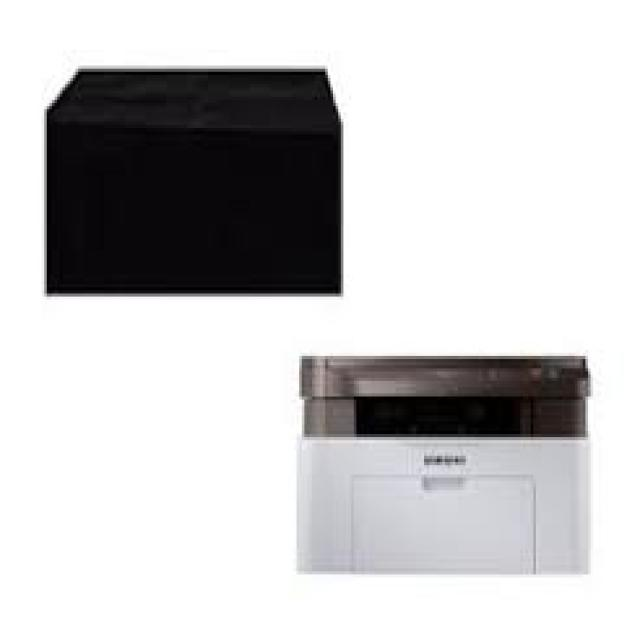printer: (292, 346, 602, 583)
